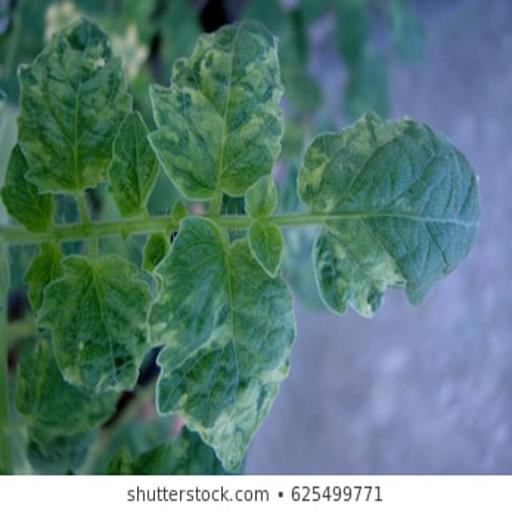Mosaic Virus: (313, 117, 470, 314), (166, 40, 280, 201), (186, 331, 296, 459), (54, 326, 138, 410), (37, 27, 131, 92), (81, 158, 111, 195)
